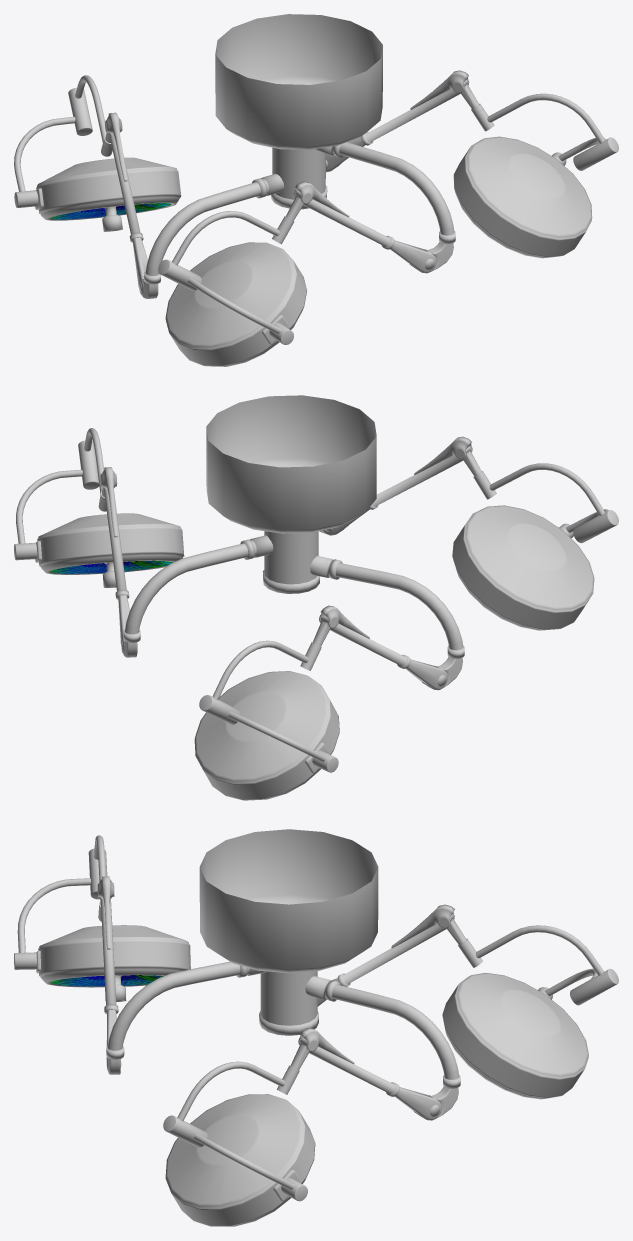
Rendered from Ceiling_Light.fbx.
3 renders of one model, top to bottom at view 1: azimuth 30°, elevation 25°; view 2: azimuth 150°, elevation 25°; view 3: azimuth 270°, elevation 25°, orthographic. The views are drawn at different scales.
Visible parts, largest first — view 1: polySurface257, polySurface301, polySurface324, polySurface278, polySurface326, polySurface280, polySurface255, polySurface282, polySurface286, polySurface305, polySurface309, polySurface259 (+13 smaller); view 2: polySurface257, polySurface324, polySurface278, polySurface301, polySurface255, polySurface280, polySurface303, polySurface309, polySurface305, polySurface282, polySurface259, polySurface263 (+10 smaller); view 3: polySurface257, polySurface301, polySurface278, polySurface324, polySurface255, polySurface326, polySurface303, polySurface259, polySurface263, polySurface282, polySurface305, polySurface286 (+11 smaller).
Boxes of the visible parts, <box> form: polySurface257: <box>215,14,382,149</box>; polySurface301: <box>453,136,592,258</box>; polySurface324: <box>165,242,306,366</box>; polySurface278: <box>36,157,181,220</box>; polySurface326: <box>339,142,454,235</box>; polySurface280: <box>145,182,260,275</box>; polySurface255: <box>272,147,325,199</box>; polySurface282: <box>361,89,460,145</box>; polySurface286: <box>487,93,604,143</box>; polySurface305: <box>304,199,394,249</box>; polySurface309: <box>172,211,279,265</box>; polySurface259: <box>109,133,143,242</box>; polySurface257: <box>206,395,376,533</box>; polySurface324: <box>452,505,594,630</box>; polySurface278: <box>194,671,339,800</box>; polySurface301: <box>37,513,184,574</box>; polySurface255: <box>264,531,318,584</box>; polySurface280: <box>336,563,463,650</box>; polySurface303: <box>125,543,248,634</box>; polySurface309: <box>489,463,605,515</box>; polySurface305: <box>369,455,463,509</box>; polySurface282: <box>103,488,129,599</box>; polySurface259: <box>330,623,410,668</box>; polySurface263: <box>212,640,308,700</box>; polySurface257: <box>199,829,378,973</box>; polySurface301: <box>165,1094,315,1226</box>; polySurface278: <box>442,972,588,1099</box>; polySurface324: <box>38,925,190,987</box>; polySurface255: <box>260,971,317,1025</box>; polySurface326: <box>107,961,240,1050</box>; polySurface303: <box>332,984,459,1079</box>; polySurface259: <box>337,924,446,986</box>; polySurface263: <box>476,925,603,975</box>; polySurface282: <box>309,1046,399,1096</box>; polySurface305: <box>100,898,118,1014</box>; polySurface286: <box>177,1061,285,1121</box>.
Bounding box in the file's own units: 6.64 × 3.05 × 6.42.
